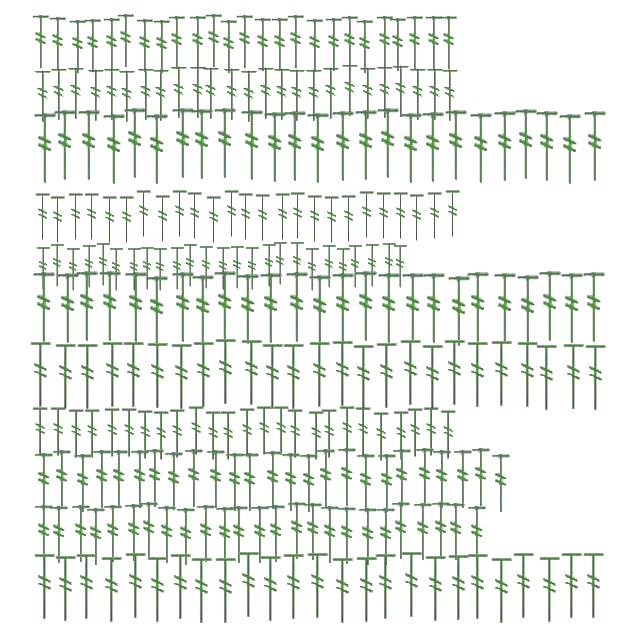fan: (32, 112, 58, 186), (282, 110, 308, 184), (330, 110, 356, 184), (398, 112, 424, 186), (468, 112, 494, 186), (492, 110, 518, 184), (534, 110, 560, 184), (582, 110, 608, 184), (74, 270, 100, 344), (190, 274, 216, 348), (212, 270, 238, 344), (258, 272, 284, 346), (330, 272, 356, 346), (376, 272, 402, 346), (400, 272, 426, 346), (492, 272, 518, 346), (52, 110, 78, 182), (76, 110, 102, 182), (122, 108, 148, 180), (144, 114, 170, 186), (170, 108, 196, 180), (212, 108, 238, 180), (262, 112, 288, 184), (420, 112, 446, 184), (144, 276, 170, 348), (170, 272, 196, 344), (284, 272, 310, 344), (446, 276, 472, 348), (28, 340, 54, 410), (53, 342, 79, 412), (75, 342, 101, 412), (100, 340, 126, 410), (121, 340, 147, 410), (169, 342, 195, 412), (191, 340, 217, 410), (239, 338, 265, 408), (260, 342, 286, 412), (281, 342, 307, 412), (307, 340, 333, 410), (398, 338, 424, 408), (442, 338, 468, 408), (465, 340, 491, 410), (515, 340, 541, 410), (561, 342, 587, 412), (32, 552, 58, 622), (53, 554, 79, 624), (74, 552, 100, 622), (168, 552, 194, 622), (189, 556, 215, 626), (213, 556, 239, 626), (236, 550, 262, 620), (258, 554, 284, 624), (281, 552, 307, 622), (330, 556, 356, 626), (373, 552, 399, 622), (399, 550, 425, 620), (423, 554, 449, 624), (465, 552, 491, 622), (489, 556, 515, 626), (190, 108, 214, 182), (306, 112, 330, 186), (514, 108, 538, 182), (56, 272, 80, 346), (98, 270, 122, 344), (308, 274, 332, 348), (354, 270, 378, 344), (422, 272, 446, 346), (516, 274, 540, 348), (538, 270, 562, 344), (560, 272, 584, 346), (145, 342, 171, 410), (213, 338, 239, 406), (330, 340, 356, 408), (351, 344, 377, 412), (374, 342, 400, 410), (420, 344, 446, 412), (489, 340, 515, 408), (534, 344, 560, 412), (583, 344, 609, 412), (99, 556, 125, 624), (123, 552, 149, 620), (145, 556, 171, 624), (305, 552, 331, 620), (354, 556, 380, 624), (446, 554, 472, 622), (511, 552, 537, 620), (537, 556, 563, 624), (559, 552, 585, 620), (581, 552, 607, 620), (102, 114, 126, 186), (240, 110, 264, 182), (354, 110, 378, 182), (376, 108, 400, 180), (444, 110, 468, 182), (558, 114, 582, 186), (32, 272, 56, 344), (124, 272, 148, 344), (236, 274, 260, 346), (466, 272, 490, 344), (582, 272, 606, 344), (144, 448, 166, 510), (224, 452, 246, 514), (262, 450, 284, 512), (280, 452, 302, 514), (72, 454, 94, 514), (108, 450, 130, 510), (298, 454, 320, 514), (336, 448, 358, 508), (376, 454, 398, 514), (414, 448, 436, 508), (452, 450, 474, 510), (470, 448, 492, 508), (490, 454, 512, 514), (48, 505, 70, 565), (70, 504, 92, 564), (102, 504, 124, 564), (138, 501, 160, 561), (156, 505, 178, 565), (214, 506, 236, 566), (228, 505, 250, 565), (286, 501, 308, 561), (302, 502, 324, 562), (336, 506, 358, 566), (390, 501, 412, 561), (412, 502, 434, 562), (430, 501, 452, 561), (466, 505, 488, 565), (34, 452, 54, 514), (184, 448, 204, 510), (240, 452, 260, 514), (316, 448, 336, 510), (392, 448, 412, 510), (52, 450, 72, 510), (92, 450, 112, 510), (130, 450, 150, 510), (164, 452, 184, 512), (206, 450, 226, 510), (356, 454, 376, 514), (432, 450, 452, 510), (34, 504, 54, 564), (86, 507, 106, 567), (124, 503, 144, 563), (176, 507, 196, 567), (196, 504, 216, 564), (250, 505, 270, 565), (266, 504, 286, 564), (320, 505, 340, 565), (358, 507, 378, 567), (376, 507, 396, 567), (446, 502, 466, 562), (33, 68, 53, 126), (49, 66, 69, 124), (102, 66, 122, 124), (117, 68, 137, 126), (136, 66, 156, 124), (169, 64, 189, 122), (188, 64, 208, 122), (222, 66, 242, 124), (239, 68, 259, 126), (272, 66, 292, 124), (340, 62, 360, 120), (375, 64, 395, 122), (408, 66, 428, 124), (425, 66, 445, 124), (48, 16, 68, 72), (68, 19, 88, 75), (102, 17, 122, 73), (116, 13, 136, 69), (152, 19, 172, 75), (188, 15, 208, 71), (204, 13, 224, 69), (270, 17, 290, 73), (286, 14, 306, 70), (324, 17, 344, 73), (340, 15, 360, 71), (388, 17, 408, 73), (424, 15, 444, 71), (66, 66, 86, 122), (86, 68, 106, 124), (151, 68, 171, 124), (201, 66, 221, 122), (256, 66, 276, 122), (287, 68, 307, 124), (304, 68, 324, 124), (321, 66, 341, 122), (358, 66, 378, 122), (391, 64, 411, 120), (440, 68, 460, 124), (152, 410, 172, 462), (168, 408, 188, 460), (204, 410, 224, 462), (286, 408, 306, 460), (320, 408, 340, 460), (354, 406, 374, 458), (392, 410, 412, 462), (422, 406, 442, 458), (32, 14, 50, 70), (84, 18, 102, 74), (136, 18, 154, 74), (168, 15, 186, 71), (220, 19, 238, 75), (236, 14, 254, 70), (254, 17, 272, 73), (306, 18, 324, 74), (356, 19, 374, 75), (376, 15, 394, 71), (406, 15, 424, 71), (440, 15, 458, 71), (120, 408, 140, 458), (136, 410, 156, 460), (238, 408, 258, 458), (272, 406, 292, 456), (338, 406, 358, 456), (372, 412, 392, 462), (406, 408, 426, 458), (32, 406, 50, 458), (50, 406, 68, 458), (68, 408, 86, 460), (84, 408, 102, 460), (220, 410, 238, 462), (308, 410, 326, 462), (34, 192, 52, 242), (67, 192, 85, 242), (83, 192, 101, 242), (154, 194, 172, 244), (237, 192, 255, 242), (274, 192, 292, 242), (306, 194, 324, 244), (340, 194, 358, 244), (358, 190, 376, 240), (104, 408, 122, 458), (188, 406, 206, 456), (256, 406, 274, 456), (440, 410, 458, 460), (49, 196, 67, 244), (101, 196, 119, 244), (118, 196, 136, 244), (135, 190, 153, 238), (171, 190, 189, 238), (186, 192, 204, 240), (205, 196, 223, 244), (223, 190, 241, 238), (254, 194, 272, 242), (289, 192, 307, 240), (323, 196, 341, 244), (375, 192, 393, 240), (392, 192, 410, 240), (408, 194, 426, 242), (426, 192, 444, 240), (444, 190, 462, 238), (108, 246, 126, 294), (126, 246, 144, 294), (152, 246, 170, 294), (182, 242, 200, 290), (198, 244, 216, 292), (272, 240, 290, 288), (304, 246, 322, 294), (364, 242, 382, 290), (244, 246, 262, 292), (392, 244, 410, 290), (50, 242, 66, 290), (66, 246, 82, 294), (230, 244, 246, 292), (262, 242, 278, 290), (290, 240, 306, 288), (336, 246, 352, 294), (36, 246, 52, 292), (82, 244, 98, 290), (96, 242, 112, 288), (140, 246, 156, 292), (170, 246, 186, 292), (216, 246, 232, 292), (322, 244, 338, 290), (348, 244, 364, 290), (382, 242, 398, 288)
